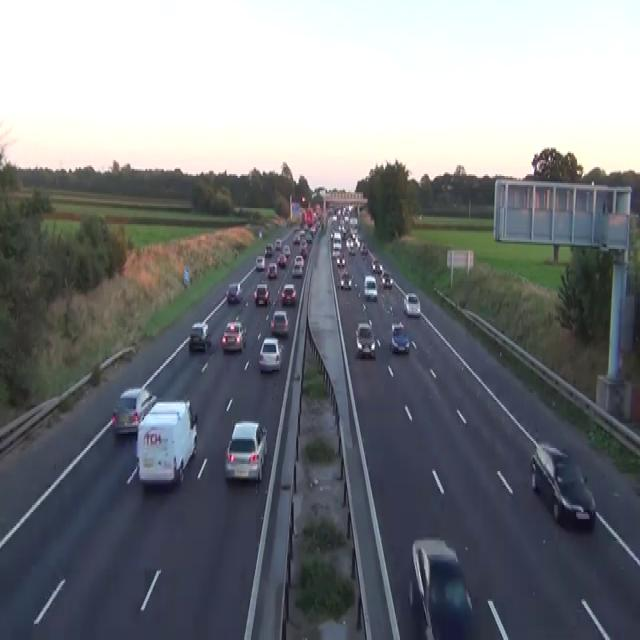Car: (408, 537, 474, 638), (530, 442, 596, 530), (224, 419, 267, 482), (111, 386, 156, 436), (258, 336, 282, 372), (221, 320, 246, 352), (188, 320, 210, 352), (355, 322, 375, 357), (390, 320, 409, 354), (270, 309, 289, 336), (403, 292, 420, 316), (253, 282, 269, 306), (363, 274, 377, 300), (226, 281, 242, 302), (281, 283, 296, 304), (291, 255, 304, 278), (340, 270, 352, 290), (381, 270, 392, 288), (371, 258, 383, 274), (267, 261, 277, 279), (331, 242, 342, 258), (255, 254, 265, 270), (294, 254, 304, 268), (277, 252, 286, 266), (336, 252, 345, 266), (300, 240, 307, 258), (332, 229, 341, 242), (264, 244, 273, 256), (292, 231, 300, 244), (304, 231, 312, 244), (360, 242, 368, 254), (283, 244, 290, 256), (349, 217, 357, 227), (274, 238, 281, 249), (371, 258, 377, 270), (348, 244, 355, 254), (258, 230, 262, 238)
Truck: (135, 398, 197, 487)
